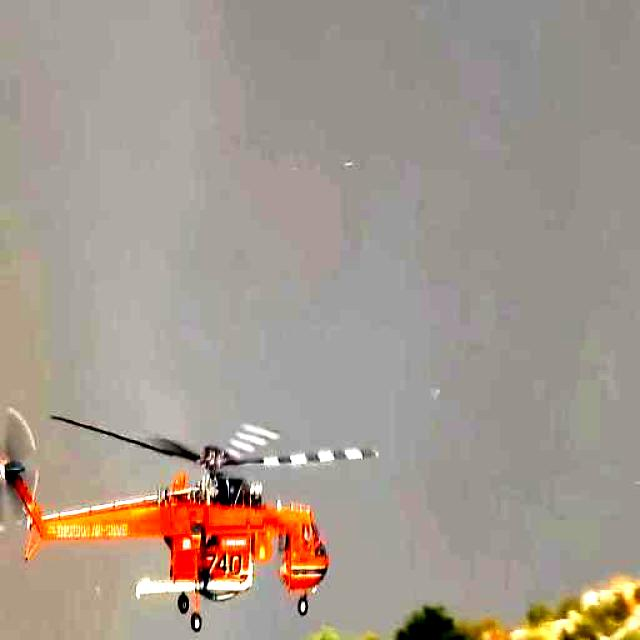drone: (0, 392, 382, 639)
